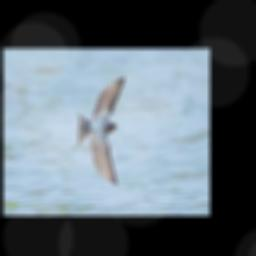Swallow: (70, 77, 124, 185)
